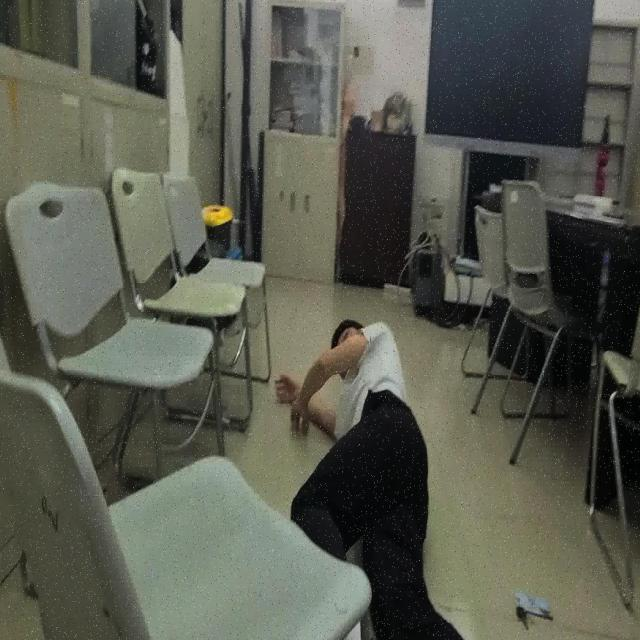fall: (274, 318, 480, 640)
